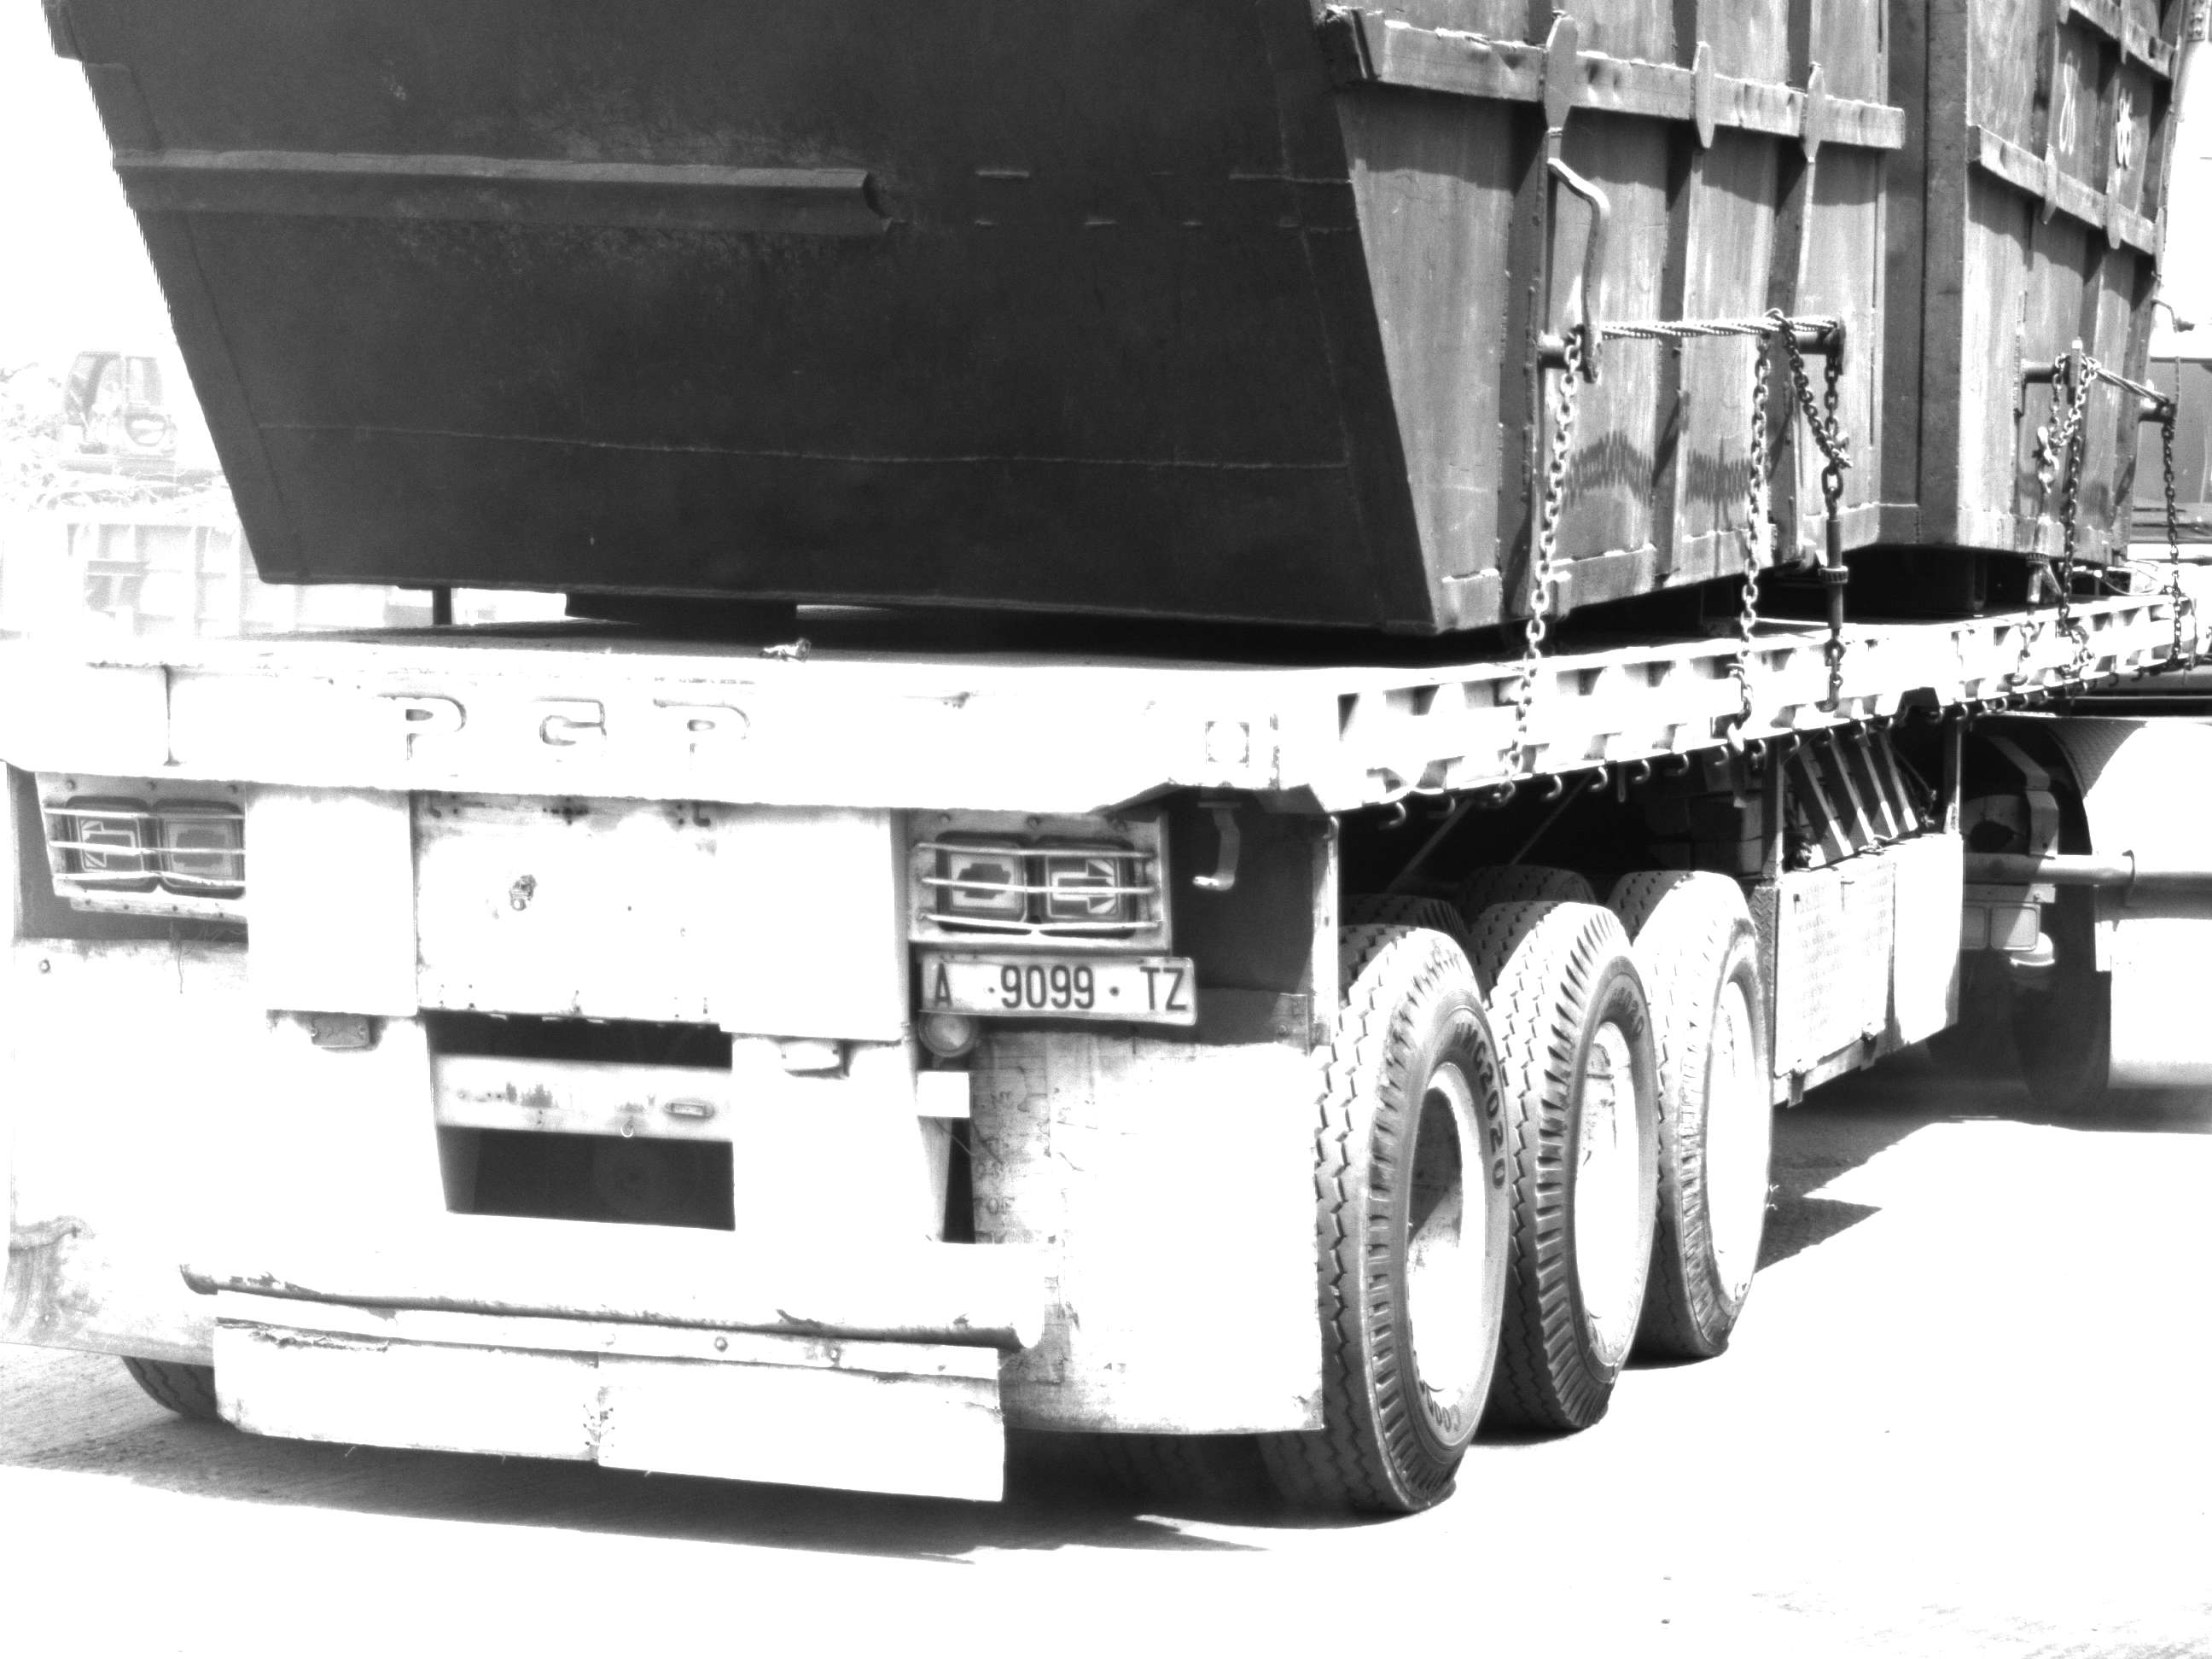day_truck_rear: (36, 638, 1476, 1545)
plate: (912, 939, 1197, 1033)
